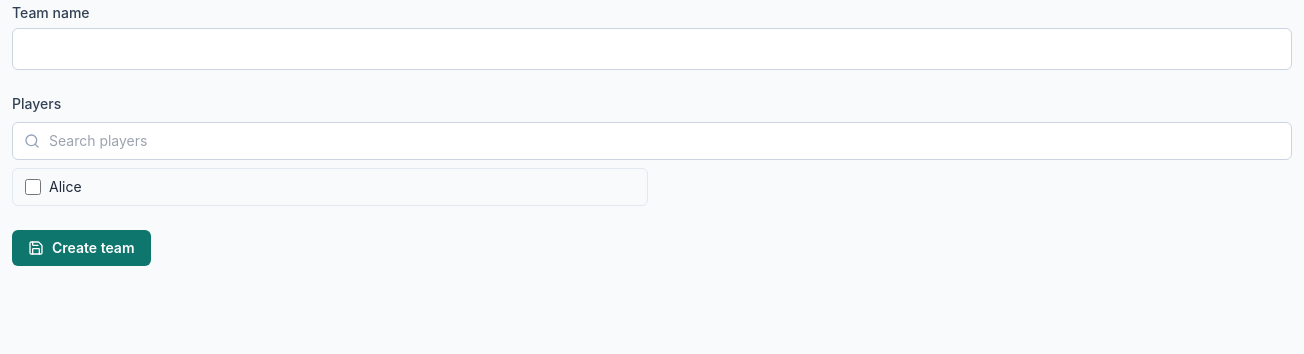
Test: TeamForm › shows validation error when name is missing
Click the button "Create team".
click(81, 248)  # box [12,230,150,266]
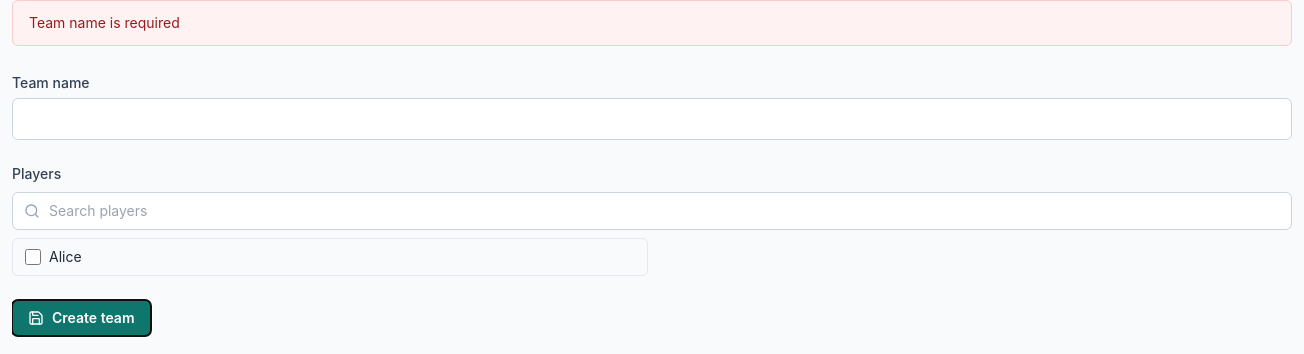
Check: the message reads "Team name is required", box [29,14,180,31]
